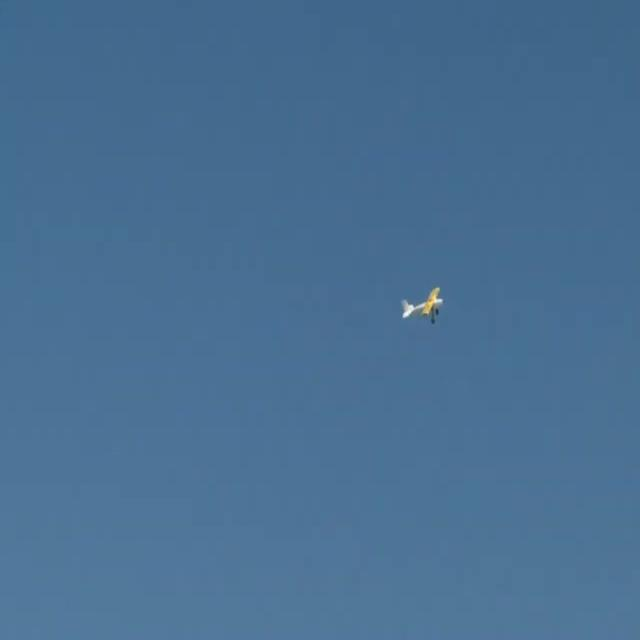iha: (401, 285, 445, 325)
